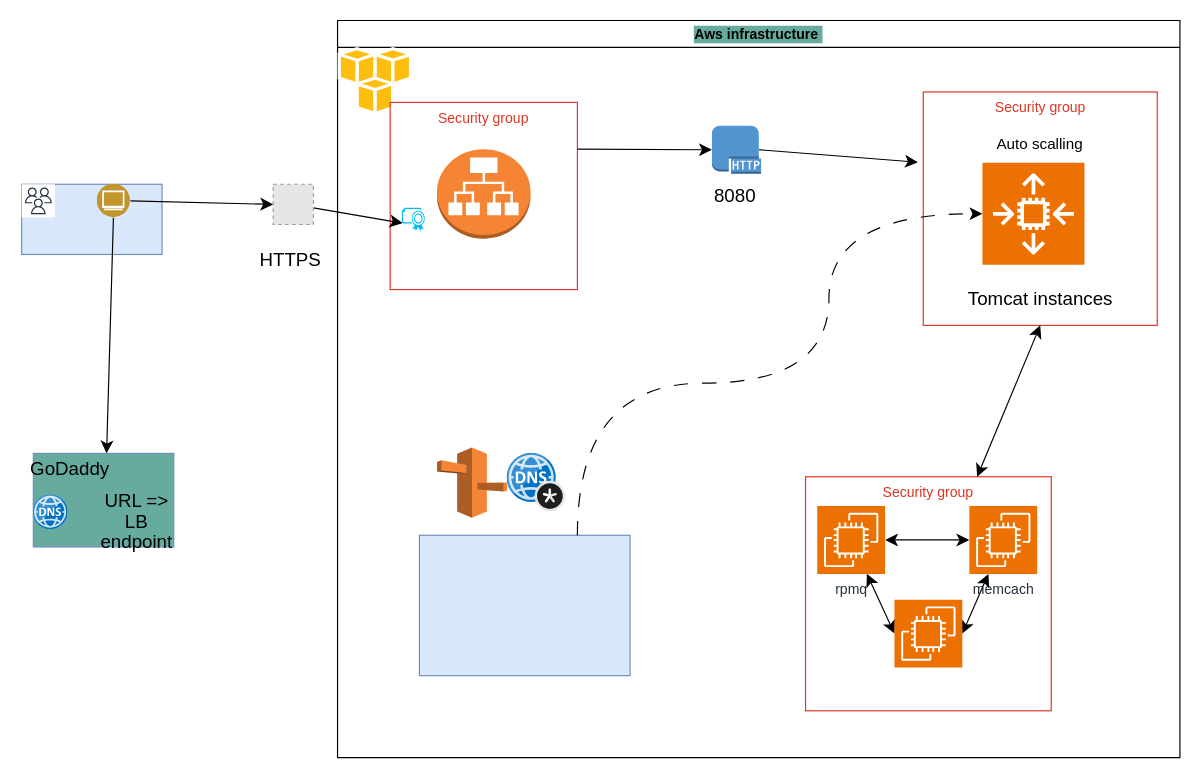
Image size: 1200x778. Some labels were removed from this diagram. Grey dashed boxes stand in for pictures. Here are the shapes that lost their labels. From the top down, the centre of each, then its label:
point 37,200: Users
point 524,605: DNS private Zones db01 => IP mc01 => IP rmp01 => IP
point 927,632: mysql
